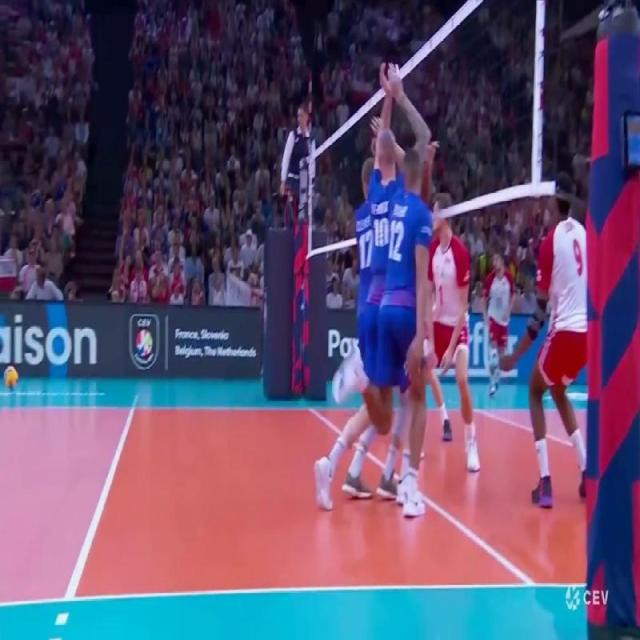volleyball: (4, 364, 19, 391)
